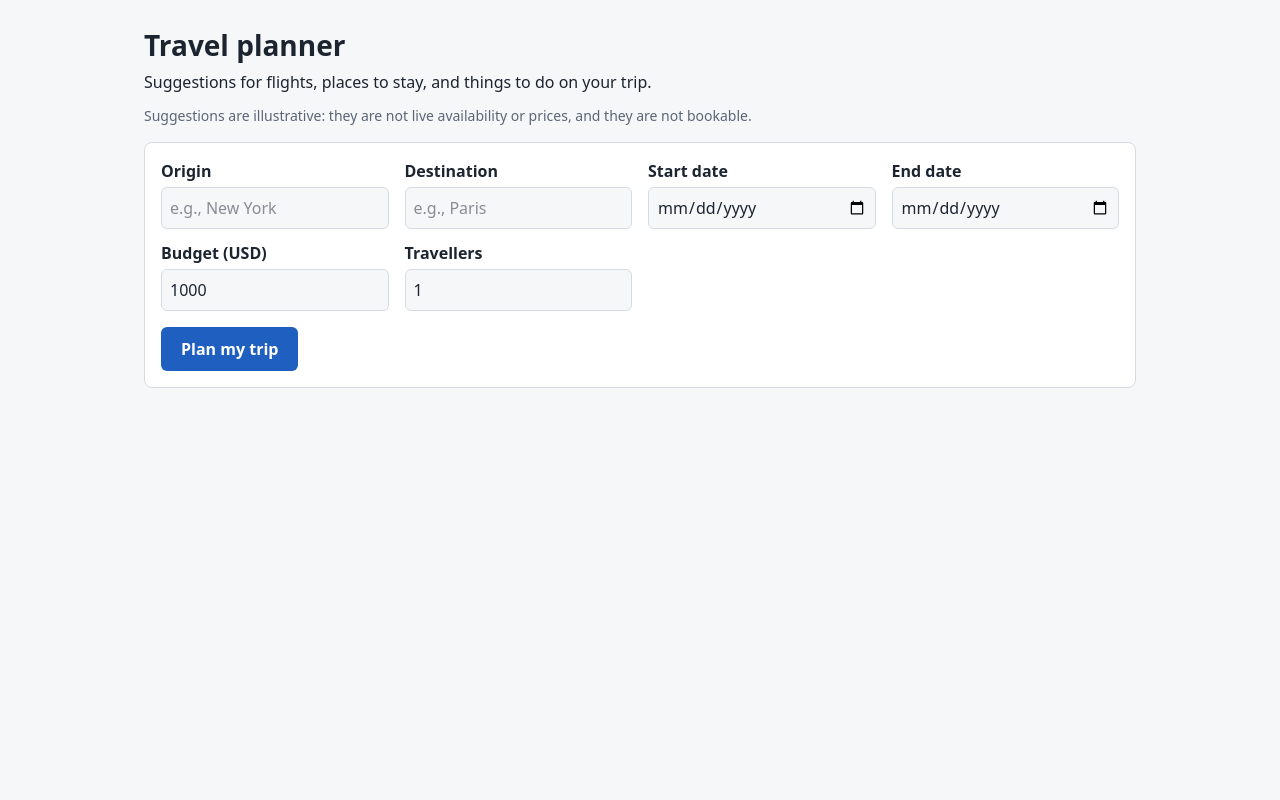
Test: TripPlanner › marks the plan partial when a part failed
The image size is (1280, 800).
In the field labelled "Origin": (275, 208) [161,187,388,229], type "Manila"
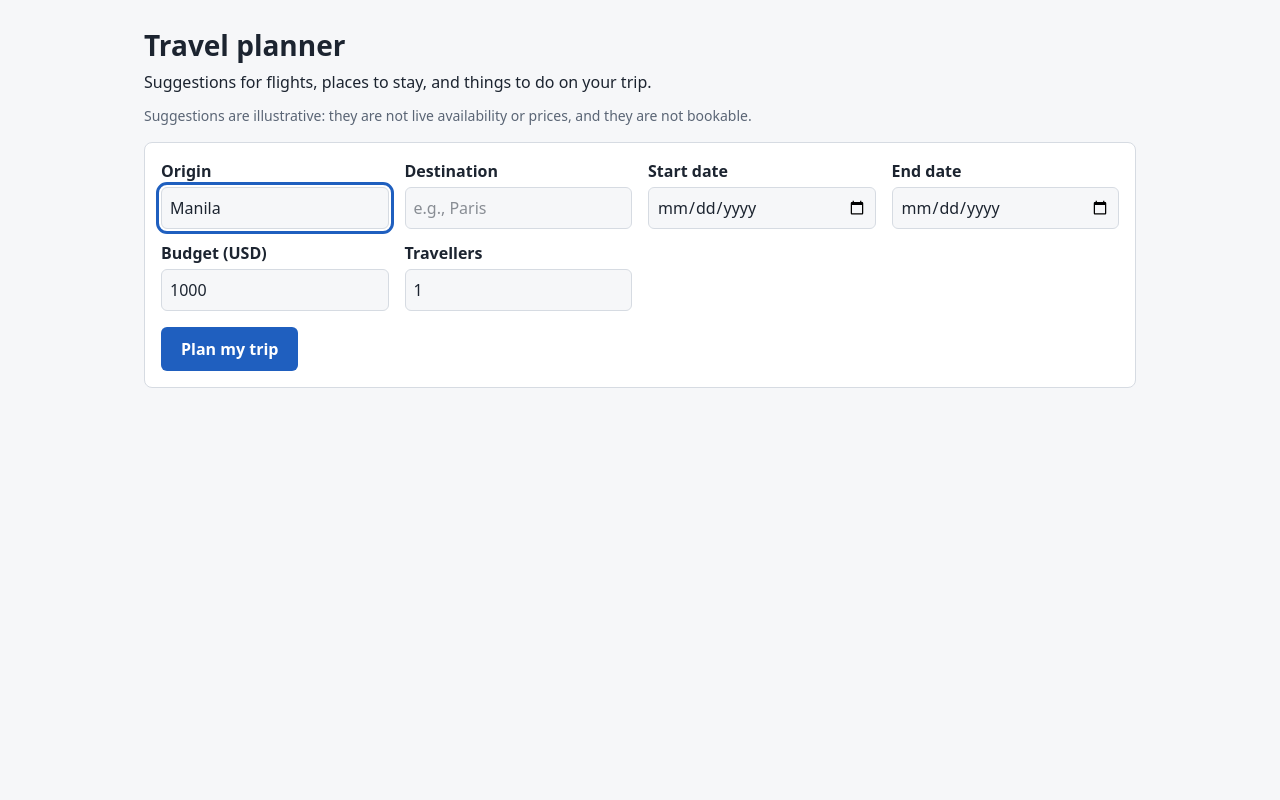
In the field labelled "Destination": (518, 208) [404,187,632,229], type "Tokyo"
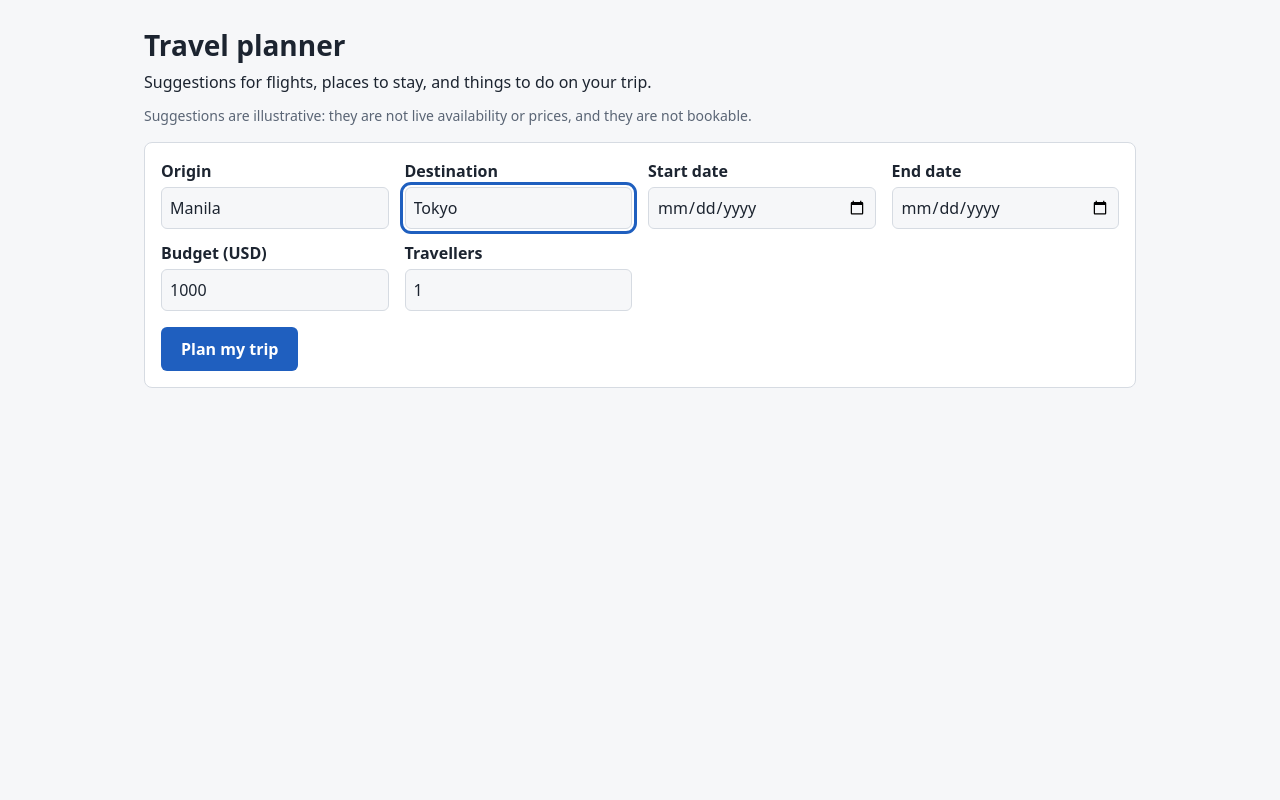
In the date field labelled "Start date": (762, 208) [648,187,876,229], type "2026-12-01"
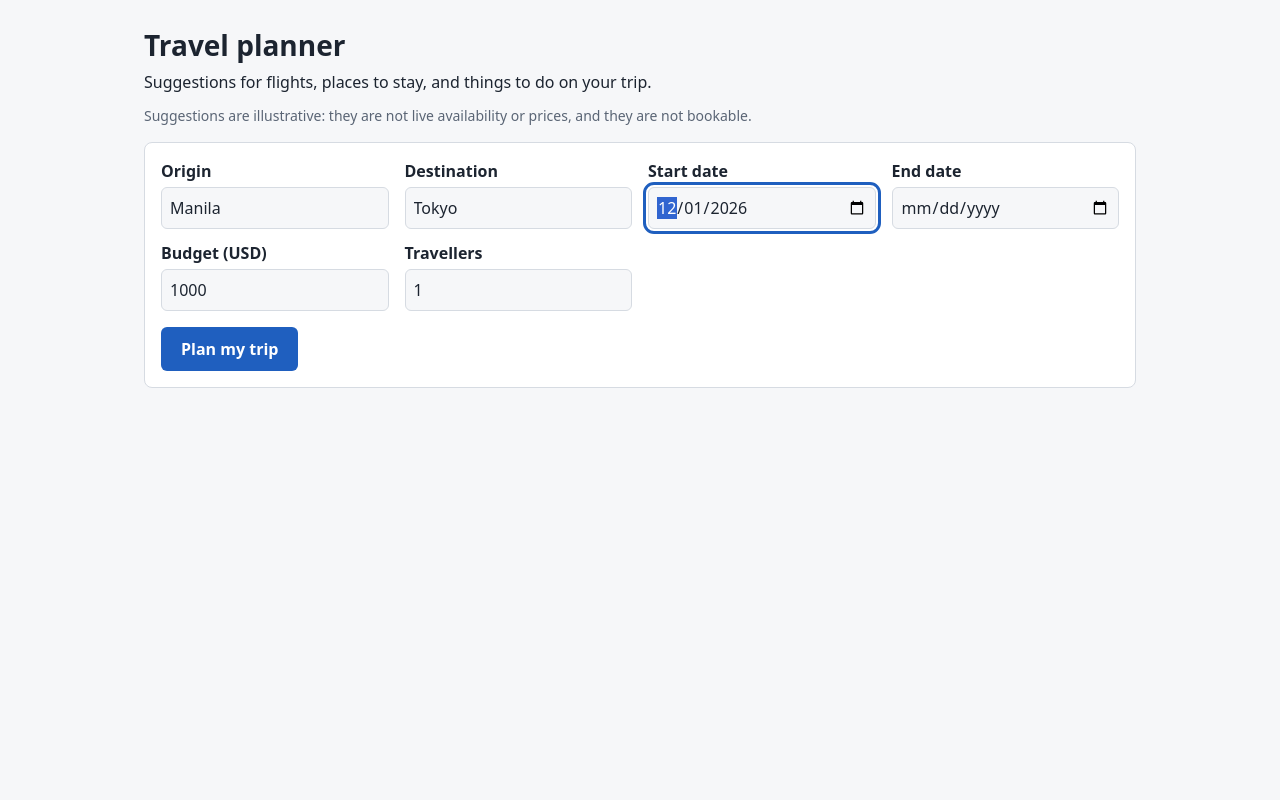
In the date field labelled "End date": (1005, 208) [892,187,1119,229], type "2026-12-06"
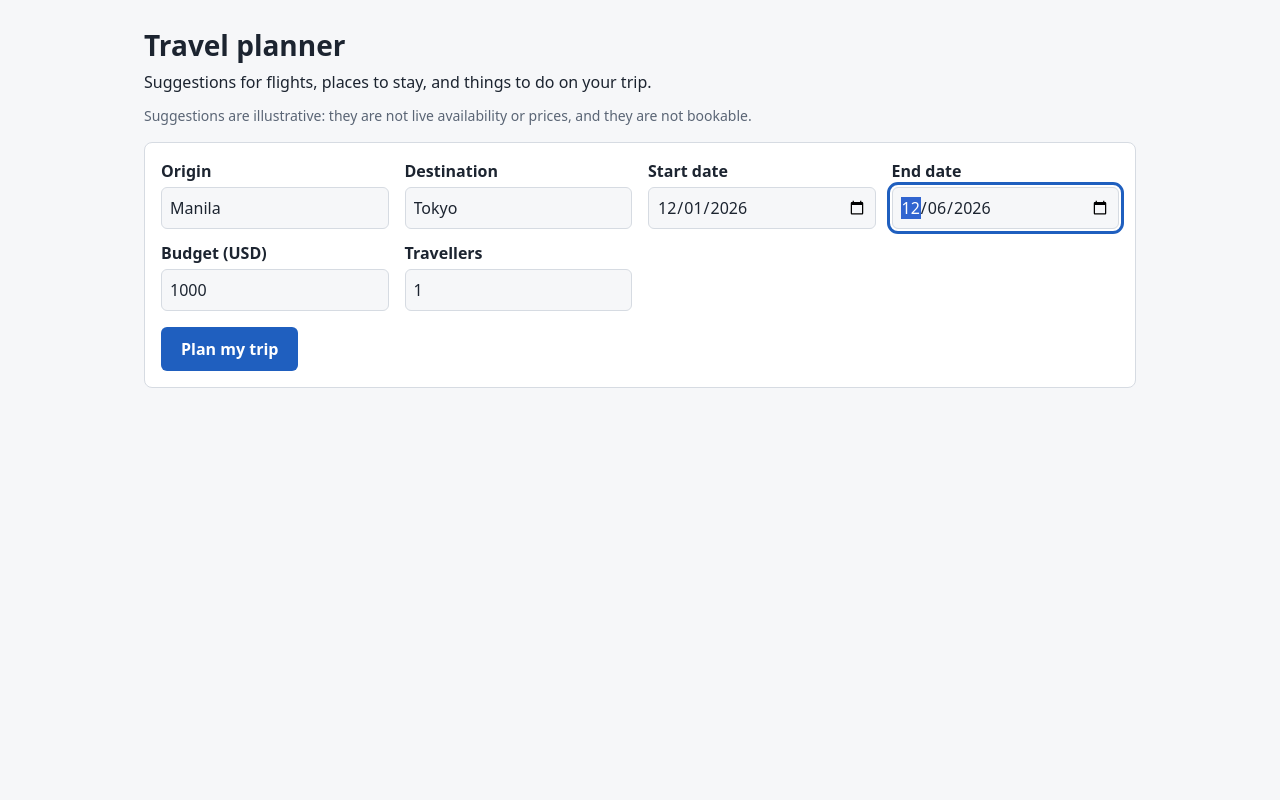
Click the button "Plan my trip": (230, 349) [161,327,298,371]
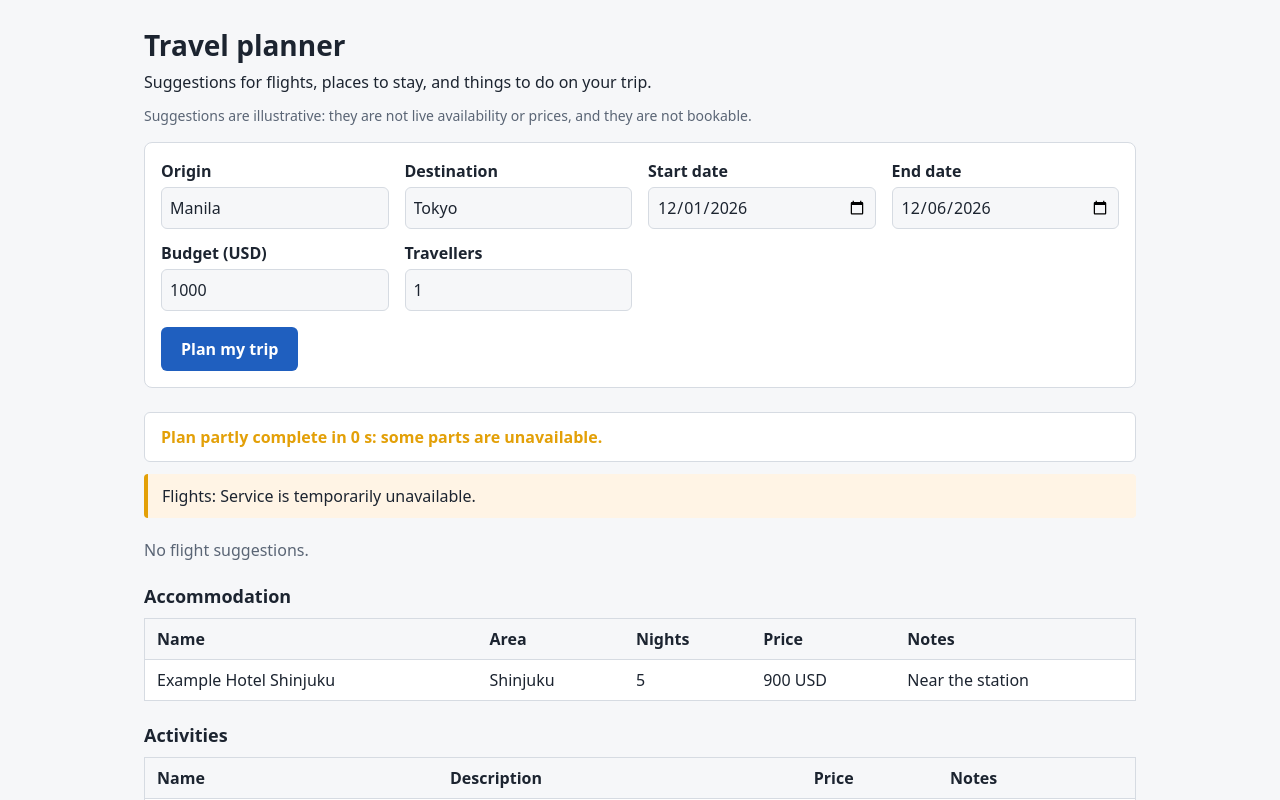
Expected: the text "Flights: Service is temporarily unavailable." is shown, [144,474,1136,518]
